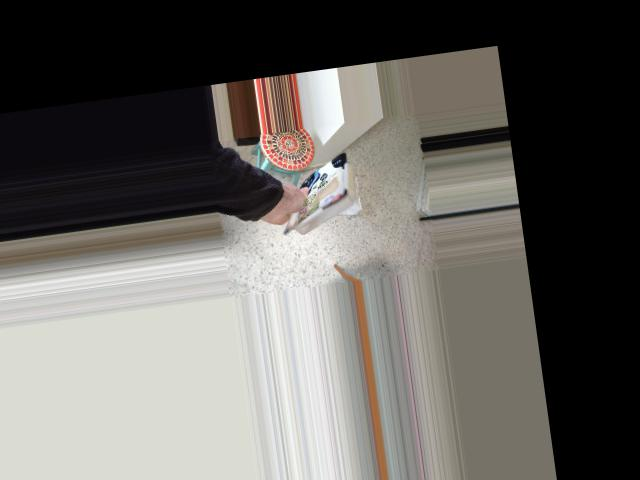cheese: (253, 137, 366, 248)
